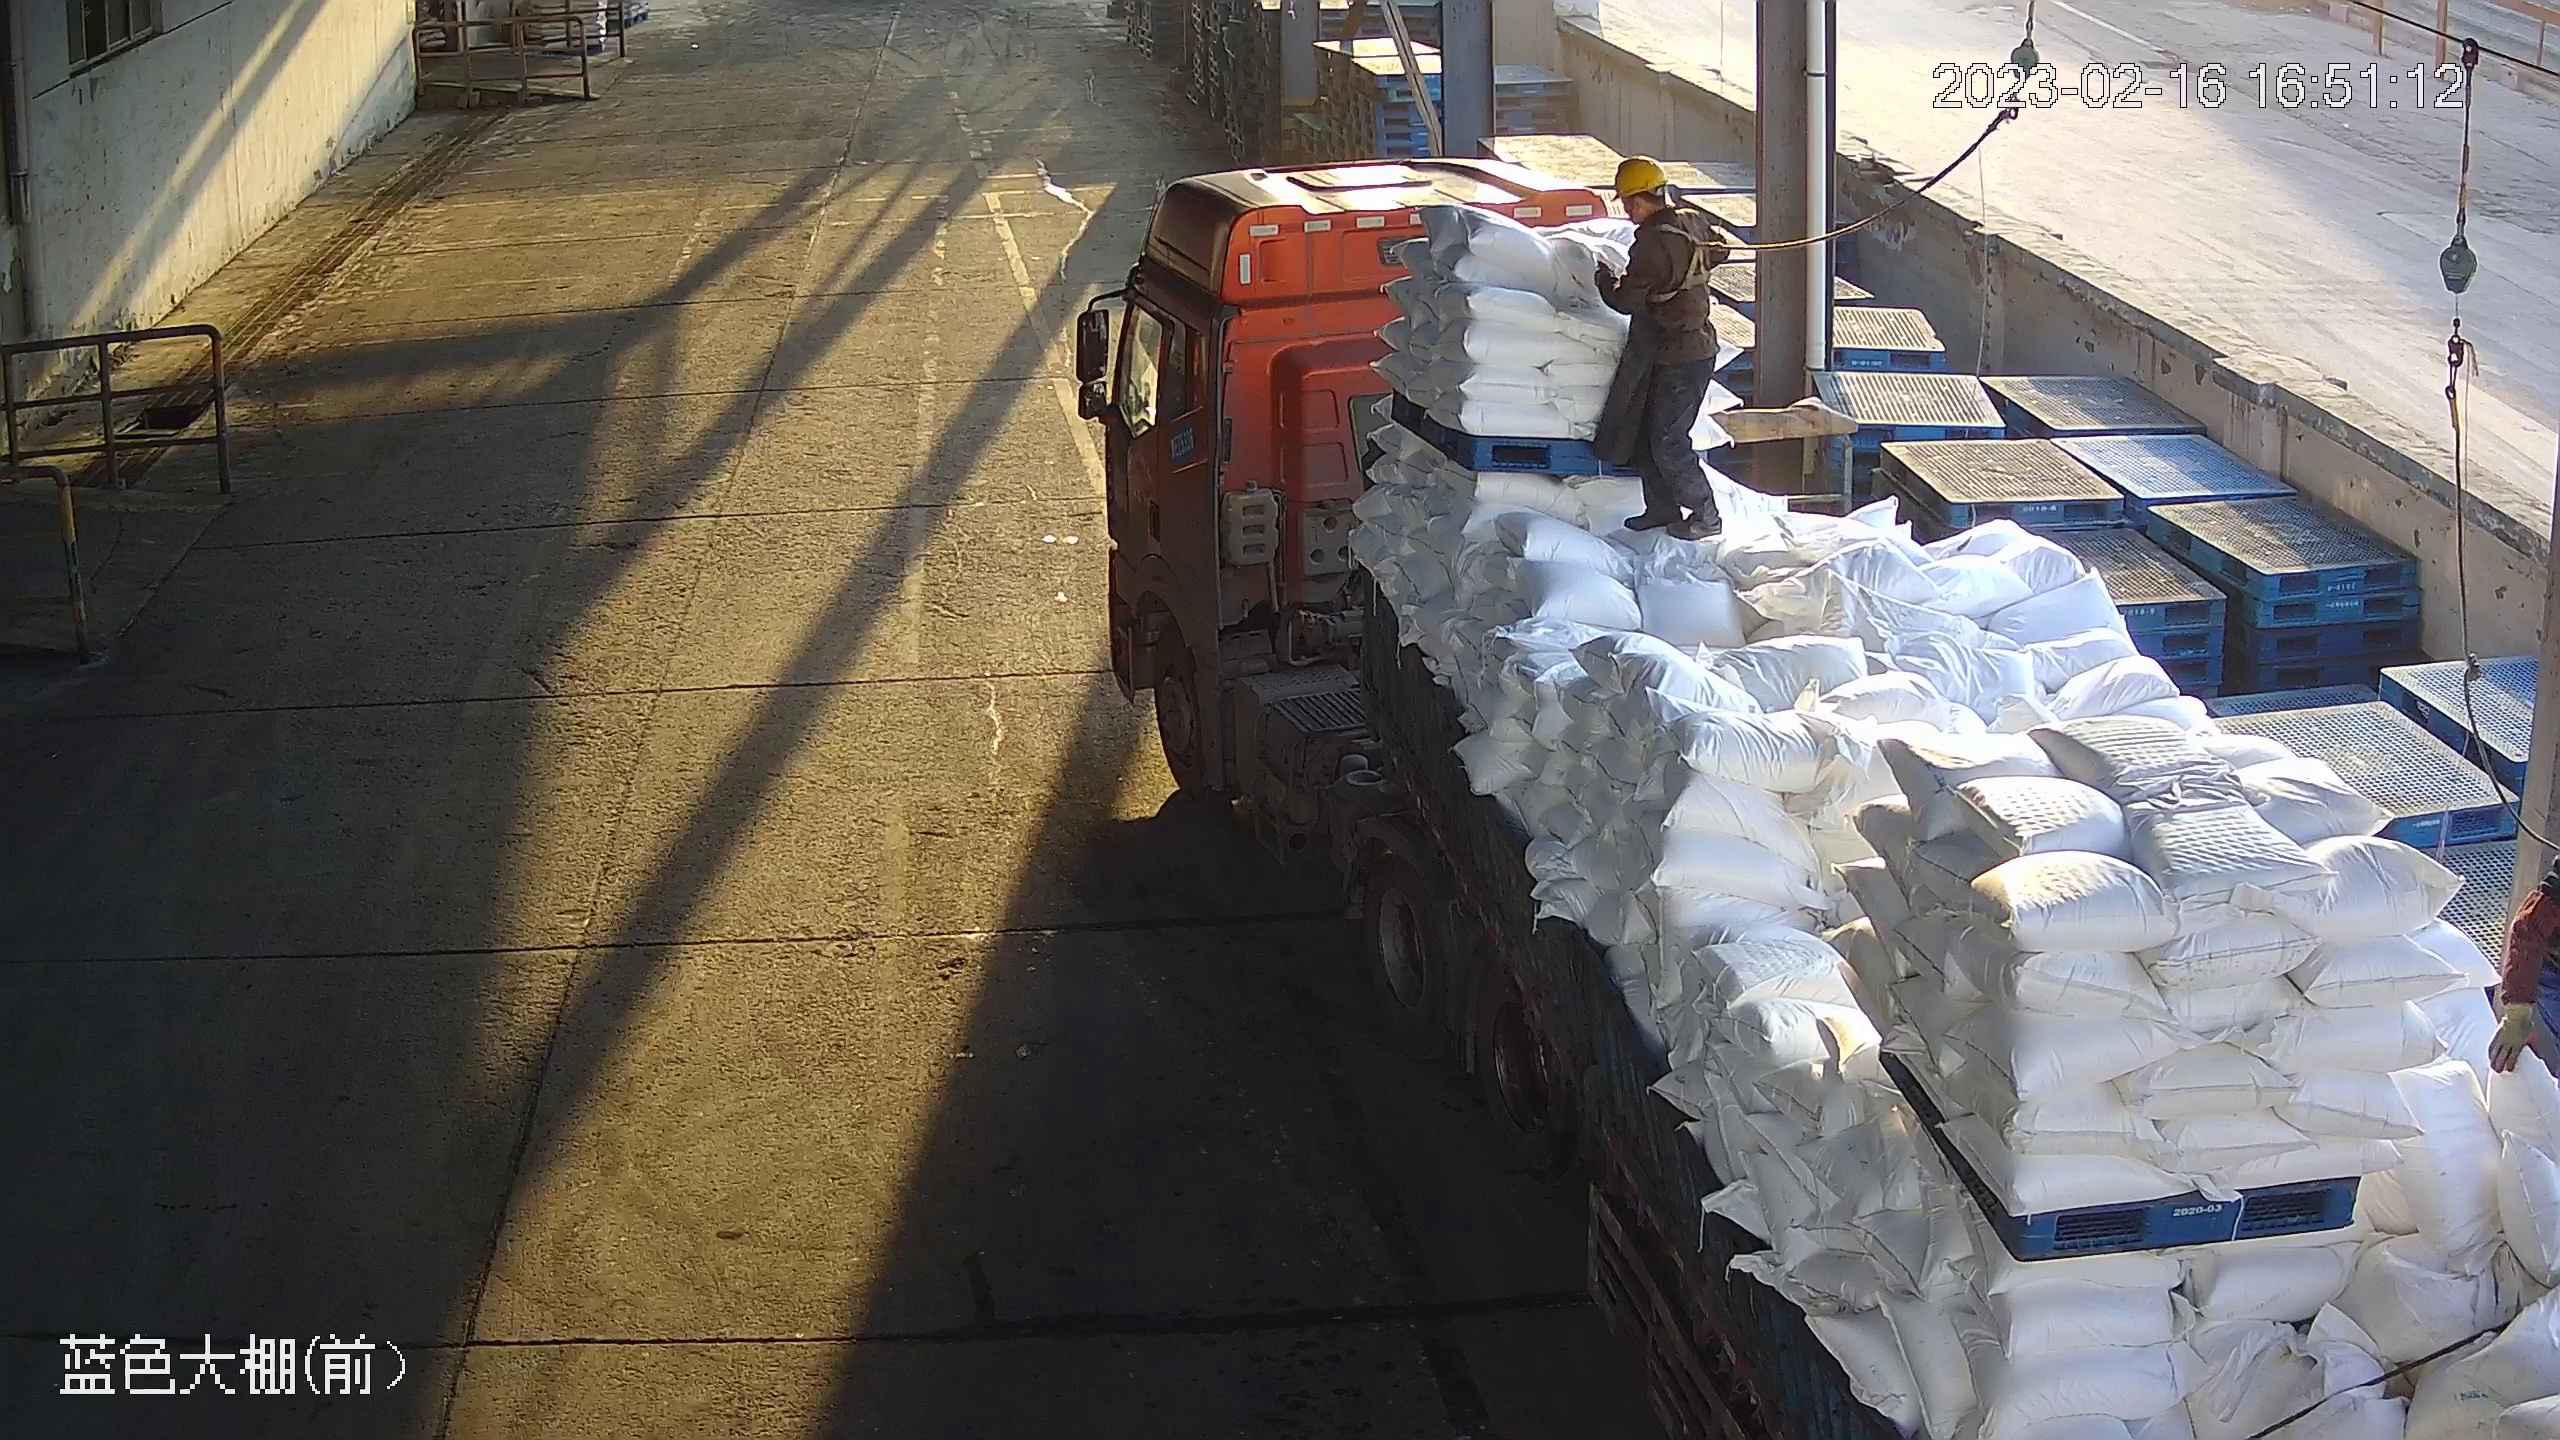belt: (1647, 213, 1718, 304)
head: (1610, 158, 1716, 260)
helmet: (1610, 157, 1668, 201)
people: (1594, 158, 1731, 542)
truck: (1074, 157, 2560, 1440)
